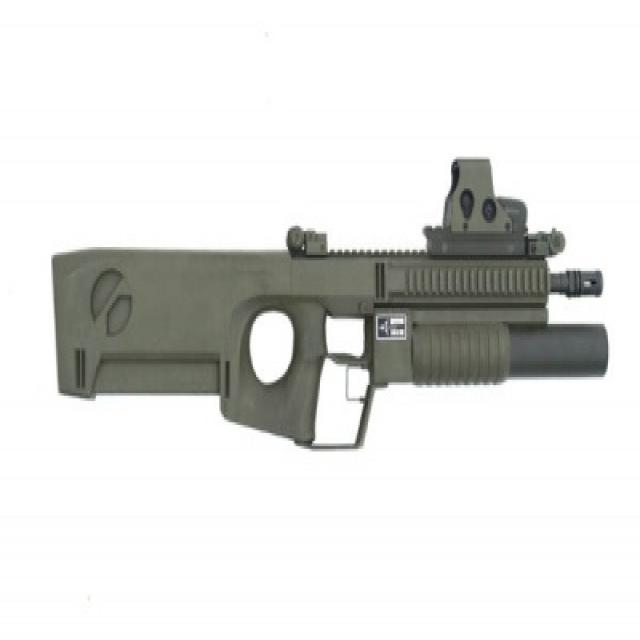rifle: (47, 146, 616, 459)
